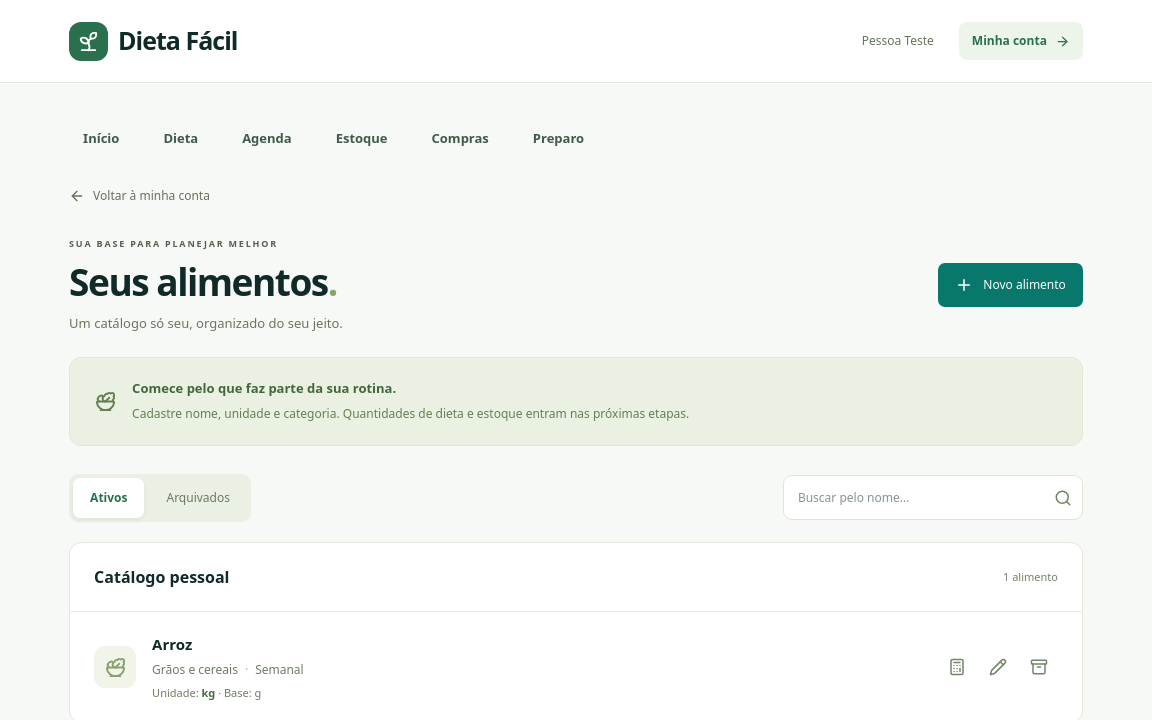
Test: mantém o texto editado ao receber conflito de versão e oferece recarga explícita
This screenshot has width=1152, height=720.
Click the button named "Editar Arroz".
click(998, 667)  # box top-left (979, 648), bottom-right (1017, 686)
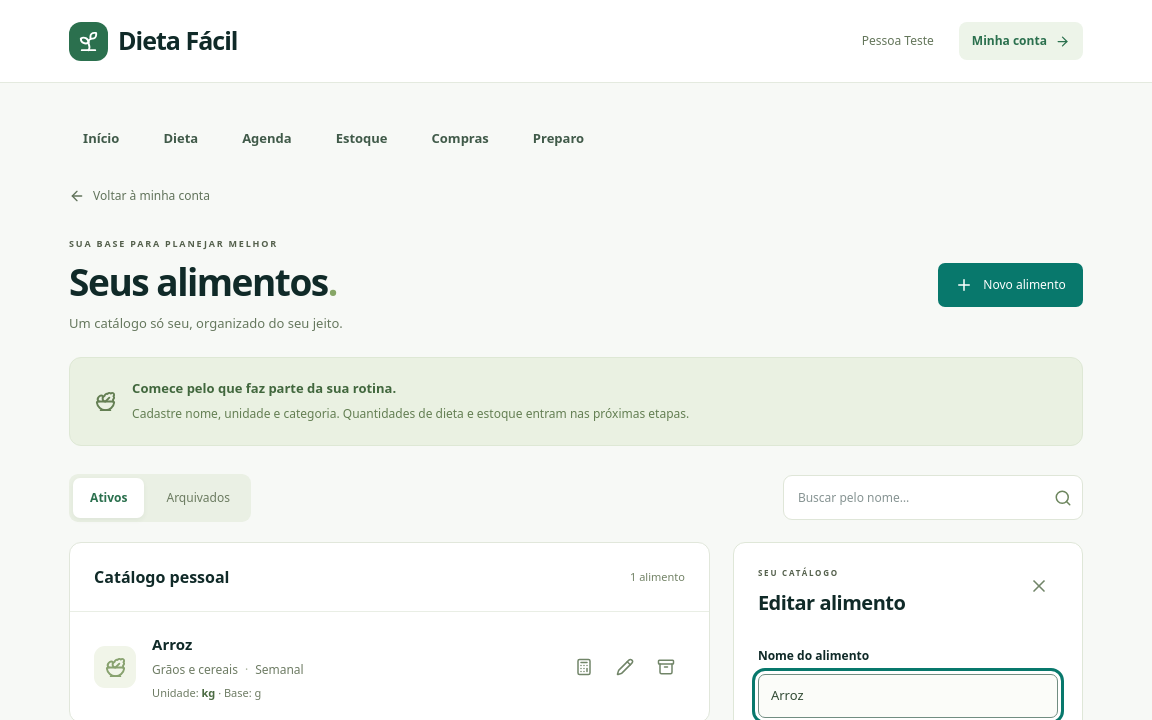
Replace the text in the field labelled "Nome do alimento" with "Arroz novo" at (908, 696), box top-left (758, 674), bottom-right (1058, 718)
(page scrolled)
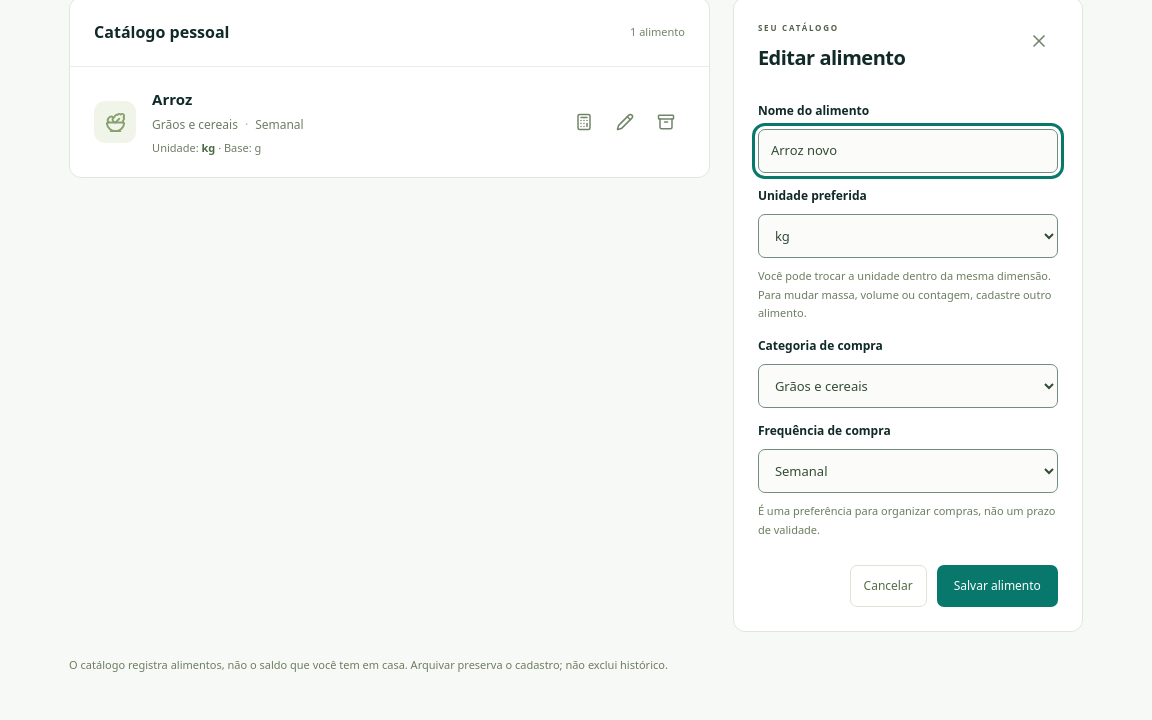
Click the button "Salvar alimento".
click(997, 586)  # box top-left (937, 565), bottom-right (1058, 607)
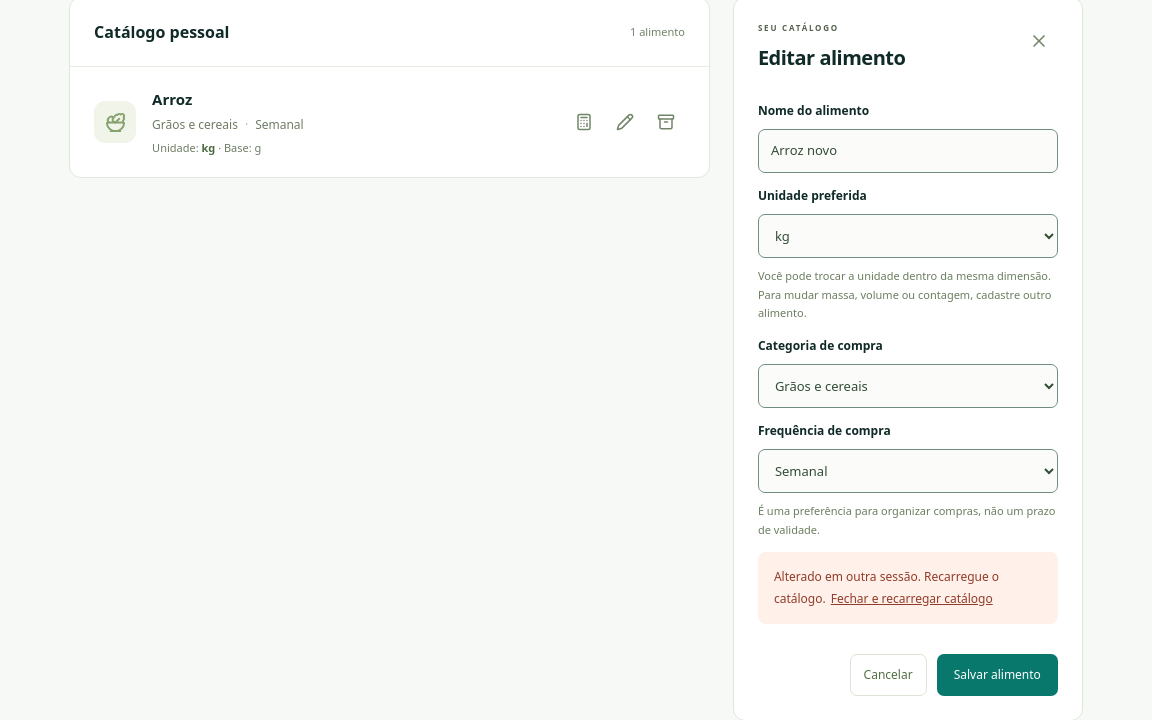
Expected: the message shows "Alterado em outra sessão", top-left (774, 568), bottom-right (999, 607)
Click the button "Fechar e recarregar catálogo".
click(912, 599)  # box top-left (831, 588), bottom-right (993, 610)
(page scrolled)
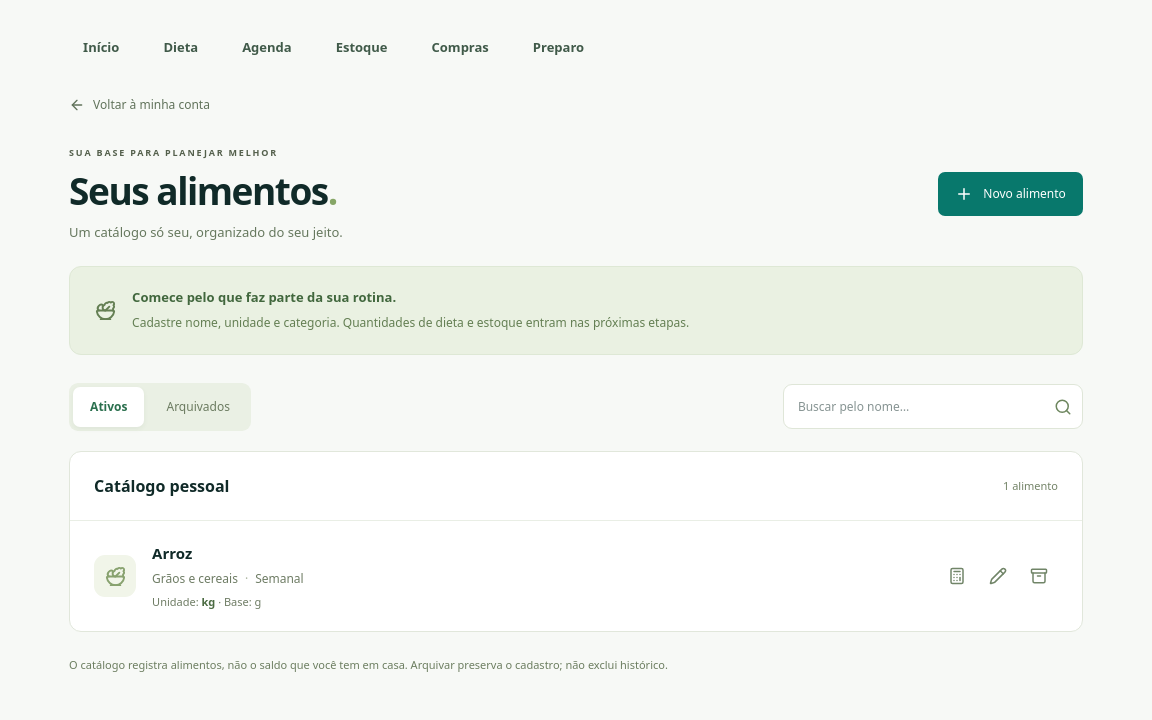
Expected: the label labelled "Nome do alimento" is gone
